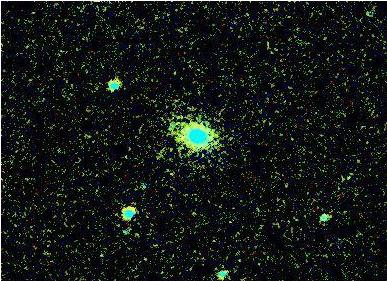star: (157, 106, 187, 136)
